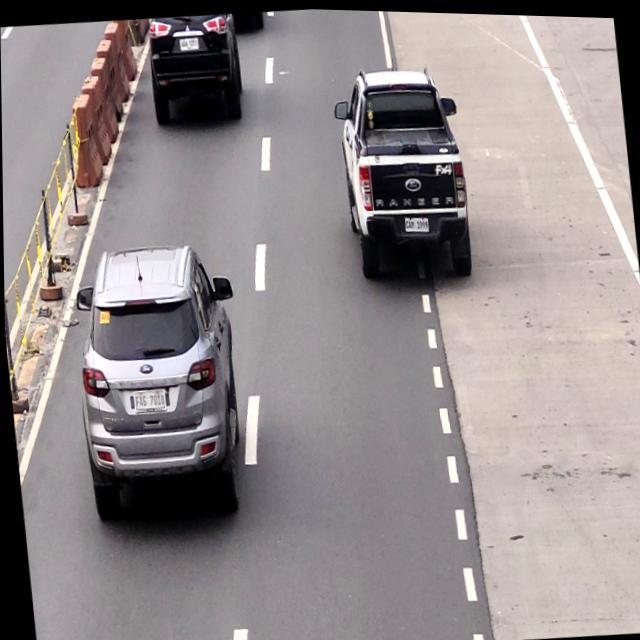Car: (66, 241, 244, 505), (339, 60, 465, 280), (141, 9, 246, 126)
License-Plate: (132, 385, 166, 411), (404, 211, 430, 232), (180, 35, 198, 49)
